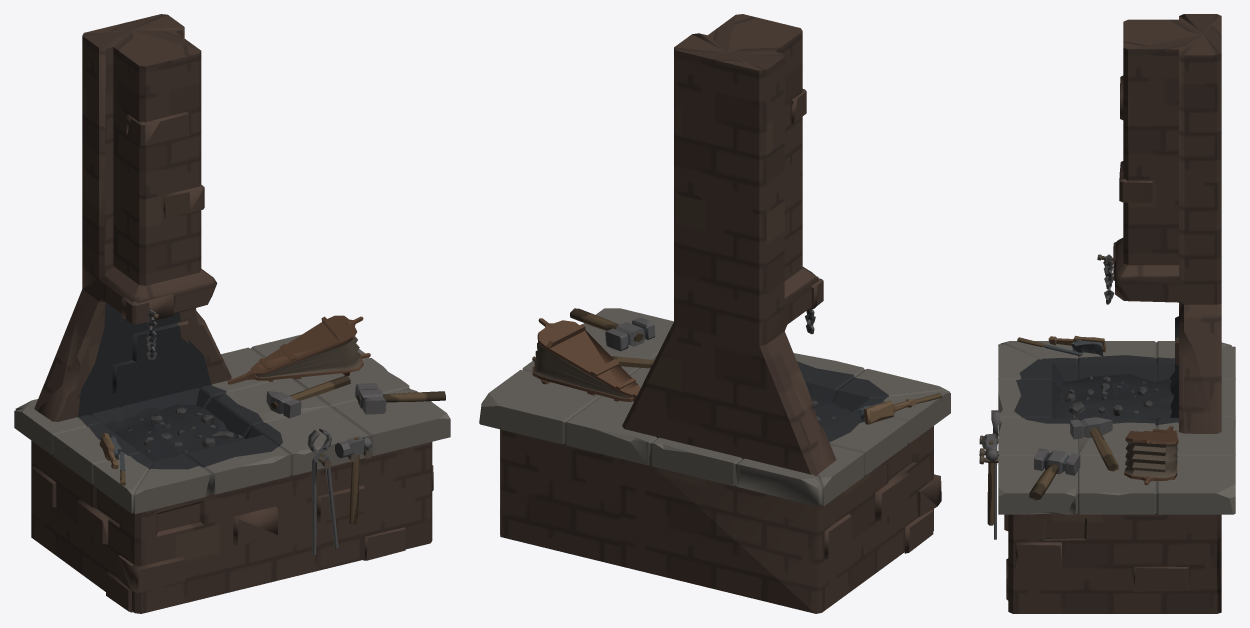
Rendered from Bench.glb.
3 renders of one model, left to right at view 1: azimuth 30°, elevation 25°; view 2: azimuth 150°, elevation 25°; view 3: azimuth 270°, elevation 25°, orthographic. The views are drawn at different scales.
Visible parts, largest first — view 1: Bench, Hammer; view 2: Bench; view 3: Bench, Hammer.
Part boxes in pixels (<box>): Bench: <box>14,14,450,613</box>; Hammer: <box>266,376,350,418</box>; Bench: <box>479,14,950,613</box>; Bench: <box>979,14,1235,613</box>; Hammer: <box>1070,417,1118,471</box>.
Size of what is drawn, in the model's own units: 2.31 by 3.25 by 1.56.
Materials: 1 (1 with a texture image).
